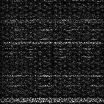lte: (1, 97, 104, 102), (1, 41, 104, 44), (1, 74, 104, 77)
